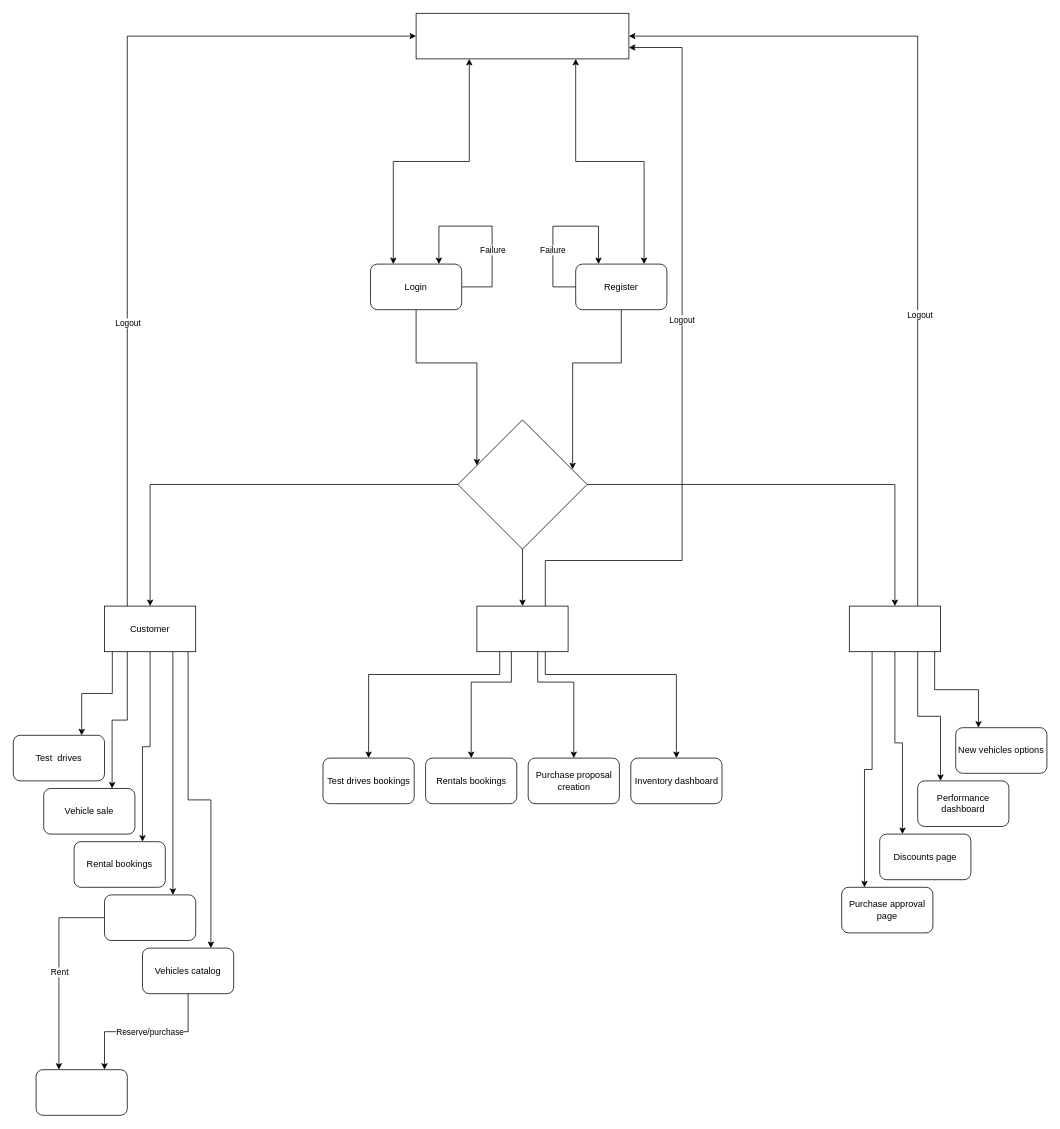
Some shapes in this 1060 by 1129 pixel diagram are drawn without their labels. Each missing label, with the centre of its shape:
"Manager" belongs at point 894,628.
"Payment processing" belongs at point 81,1092.
"Rentals" belongs at point 150,917.
"Salesman" belongs at point 522,628.
"User Role" belongs at point 522,484.
"Welcome Page" belongs at point 522,36.
